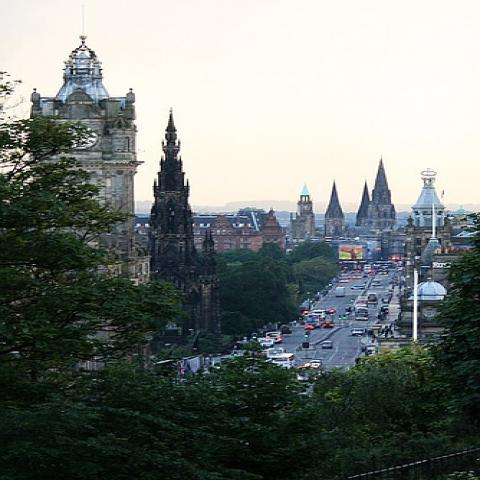bus: (355, 307, 368, 320)
car: (279, 254, 405, 334), (266, 332, 281, 344), (259, 338, 275, 348), (350, 328, 366, 336), (322, 340, 334, 349), (322, 321, 334, 328), (311, 322, 323, 329), (338, 277, 351, 283), (304, 323, 315, 330), (350, 285, 365, 290), (371, 280, 382, 286), (326, 308, 336, 314)
truck: (267, 353, 295, 369), (354, 305, 373, 318), (359, 344, 378, 356), (367, 292, 379, 304)
